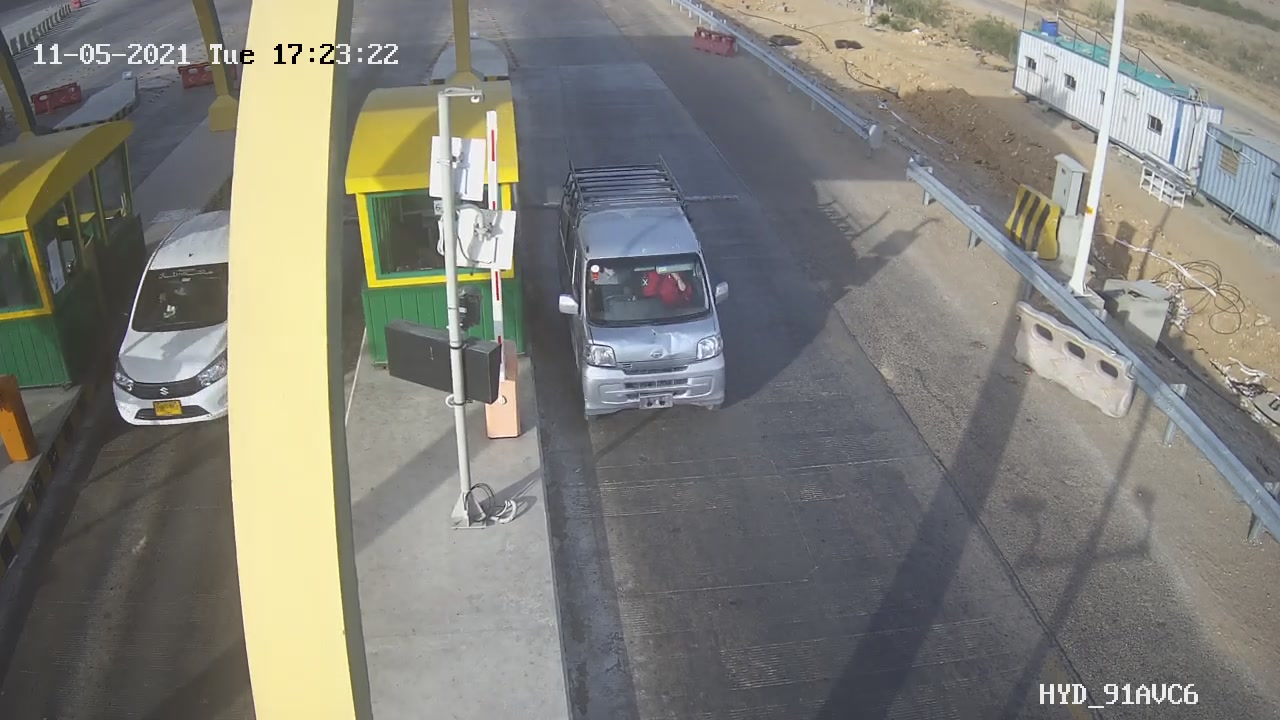F1: (548, 146, 743, 438)
